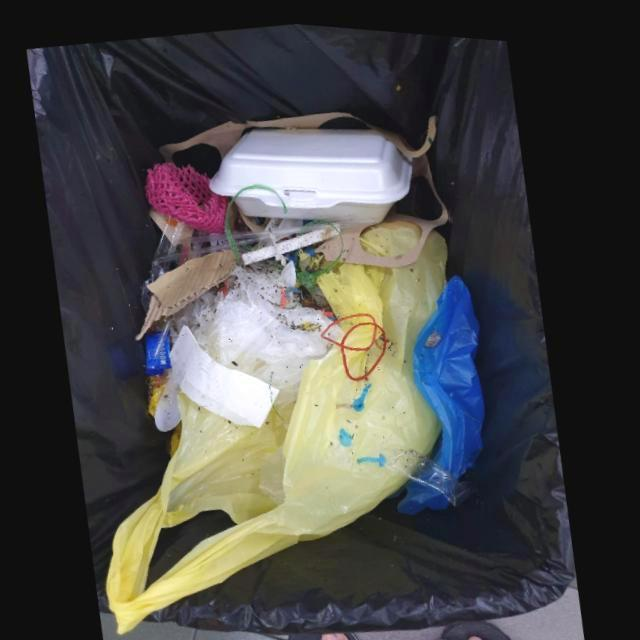cardboard: (138, 245, 239, 338)
paper: (172, 321, 283, 423)
plastic_bag: (111, 224, 451, 632), (403, 269, 490, 508)
